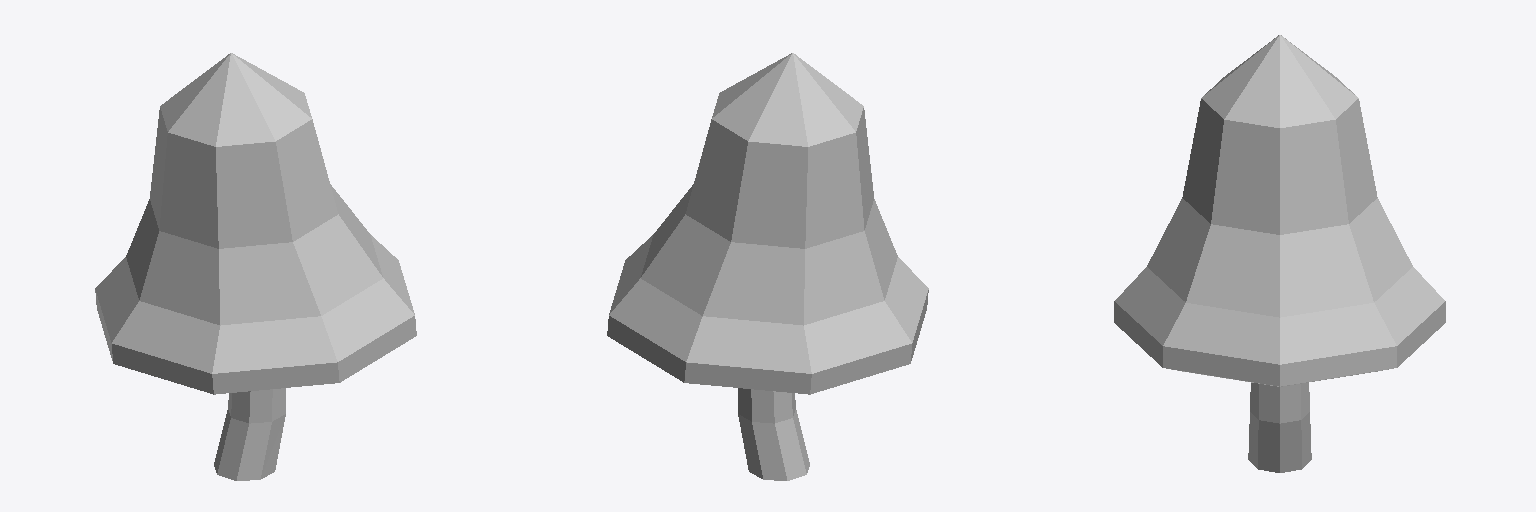
Rendered from mushroom2.obj.
3 renders of one model, left to right at view 1: azimuth 30°, elevation 25°; view 2: azimuth 150°, elevation 25°; view 3: azimuth 270°, elevation 25°, orthographic.
Visible parts, largest first — view 1: Mushroom_high_yellow_Cylinder.062; view 2: Mushroom_high_yellow_Cylinder.062; view 3: Mushroom_high_yellow_Cylinder.062.
Part boxes in pixels (bbox=[...]): Mushroom_high_yellow_Cylinder.062: bbox=[95, 53, 416, 480]; Mushroom_high_yellow_Cylinder.062: bbox=[607, 53, 928, 480]; Mushroom_high_yellow_Cylinder.062: bbox=[1114, 35, 1445, 472].
Size of the model in its own units: 2.07 by 2.88 by 2.06.